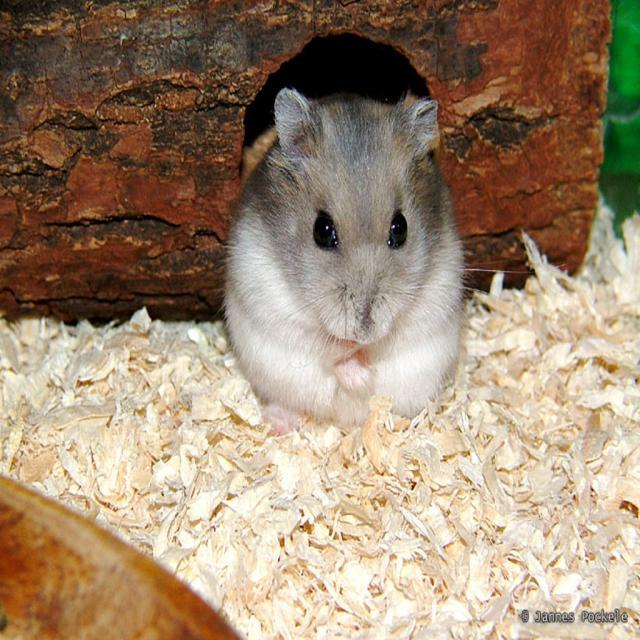rat: (215, 85, 532, 437)
